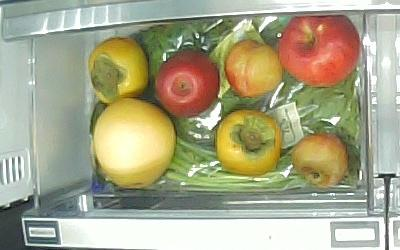apple: (279, 15, 361, 88), (154, 50, 220, 117)
grapefruit: (93, 98, 176, 190)
persimmon: (216, 109, 282, 176), (88, 37, 149, 105)
prune: (225, 40, 283, 99), (293, 133, 348, 189)
